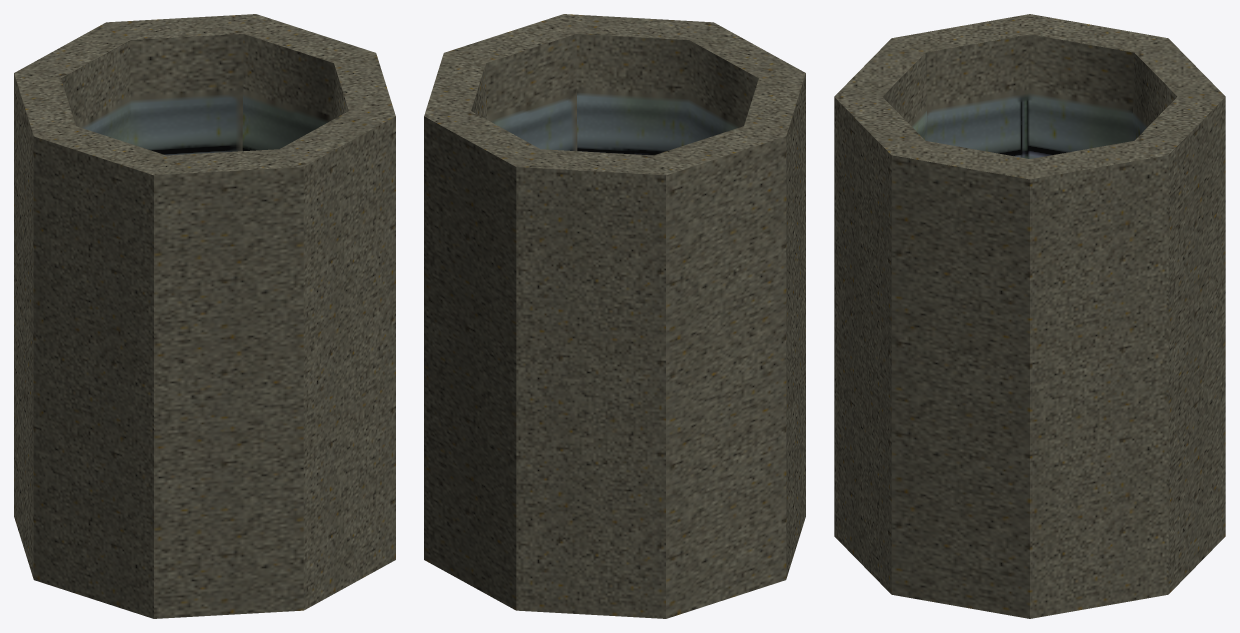
Rendered from trash_bin.glb.
3 renders of one model, left to right at view 1: azimuth 30°, elevation 25°; view 2: azimuth 150°, elevation 25°; view 3: azimuth 270°, elevation 25°, orthographic.
Visible parts, largest first — view 1: Cylinder; view 2: Cylinder; view 3: Cylinder.
Part boxes in pixels (<box>): Cylinder: <box>14,14,395,618</box>; Cylinder: <box>424,14,805,618</box>; Cylinder: <box>834,14,1225,618</box>.
Bounding box in the file's own units: 2 × 2.48 × 2.
Materials: 2 (2 with a texture image).
